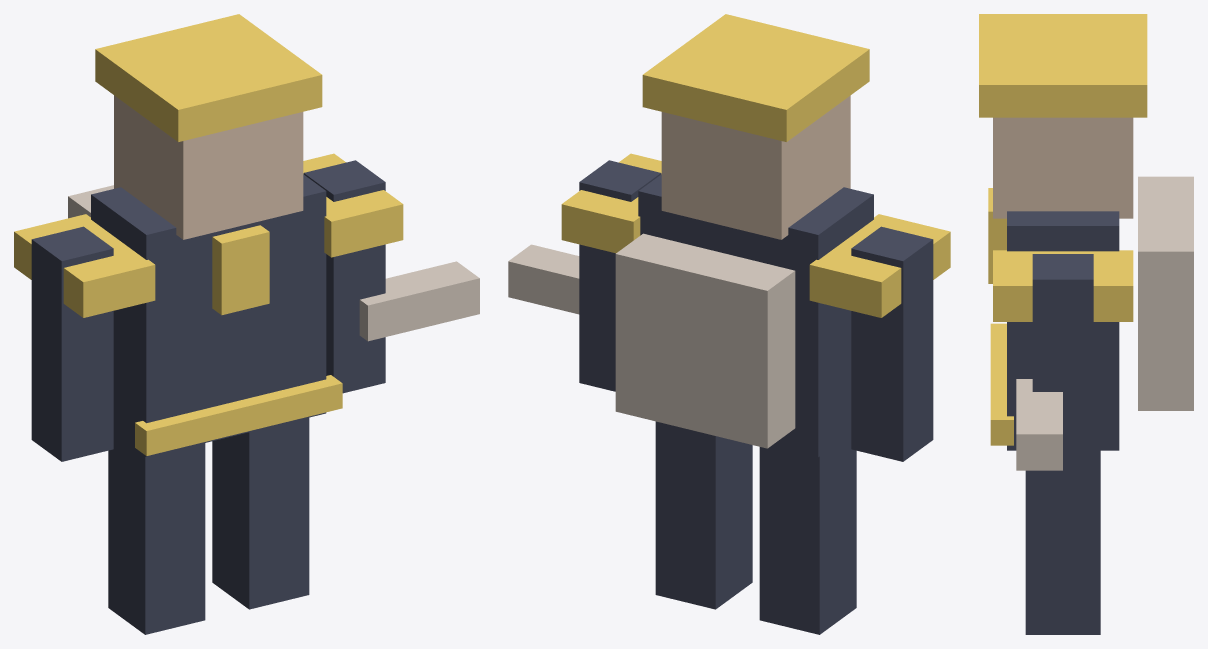
File: 12_quill_gearmantle_medic_from_anomaly.glb
The picture shows the model from 3 angles, left to right: view 1: azimuth 30°, elevation 25°; view 2: azimuth 150°, elevation 25°; view 3: azimuth 270°, elevation 25°; orthographic projection.
Visible parts, largest first — view 1: Quill Gearmantle, Medic from Anomaly; view 2: Quill Gearmantle, Medic from Anomaly; view 3: Quill Gearmantle, Medic from Anomaly.
Boxes of the visible parts, x1,y1,x2,y2 form: Quill Gearmantle, Medic from Anomaly: (14, 14, 479, 634); Quill Gearmantle, Medic from Anomaly: (508, 14, 950, 634); Quill Gearmantle, Medic from Anomaly: (979, 14, 1193, 634).
Size of the model in its own units: 1.1 by 1.39 by 0.4946.
